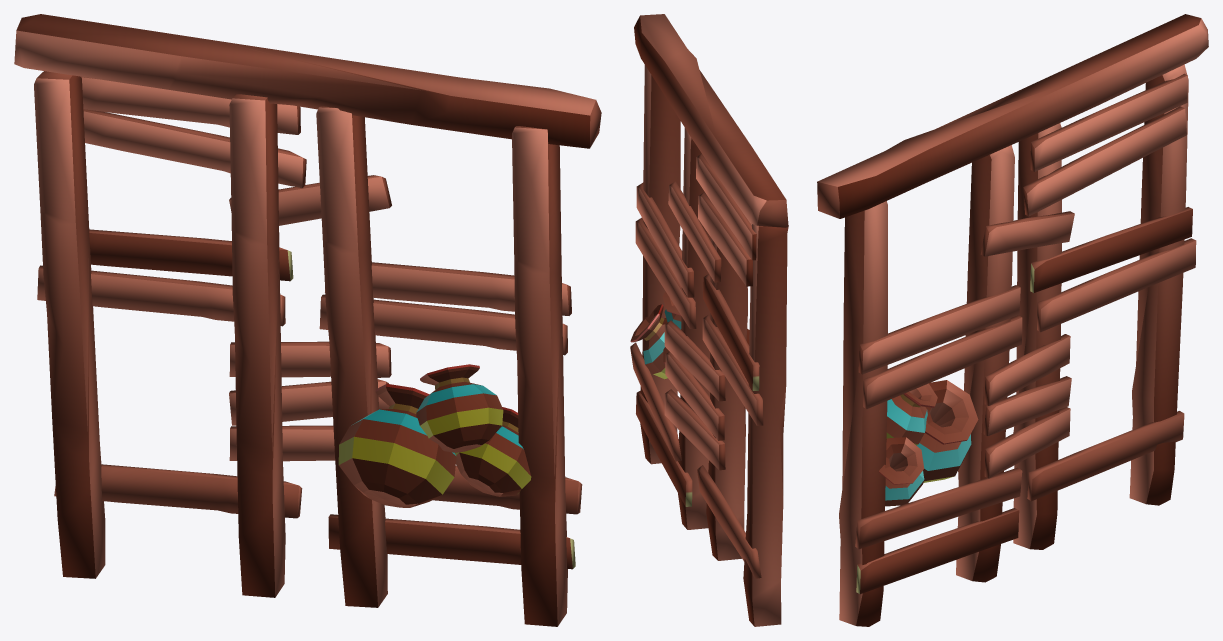
Rendered from Tapia14.Prop.14.fbx.
3 renders of one model, left to right at view 1: azimuth 30°, elevation 25°; view 2: azimuth 150°, elevation 25°; view 3: azimuth 270°, elevation 25°, orthographic. The views are drawn at different scales.
Parts seen in each view (by area): view 1: Tapia.14.Props.14; view 2: Tapia.14.Props.14; view 3: Tapia.14.Props.14.
Part boxes in pixels (x1,y1,x2,y2): Tapia.14.Props.14: (14,14,601,626); Tapia.14.Props.14: (630,14,788,626); Tapia.14.Props.14: (817,14,1208,626).
Bounding box in the file's own units: 295 × 393 × 298.
